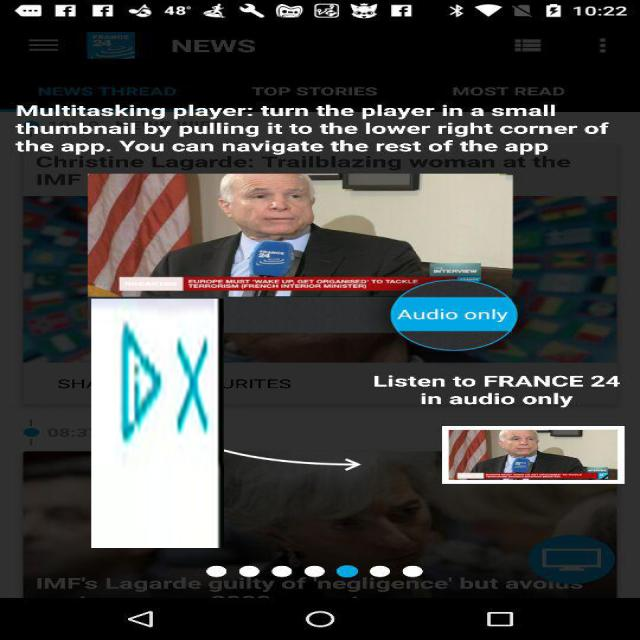sneaking: (91, 299, 224, 548)
